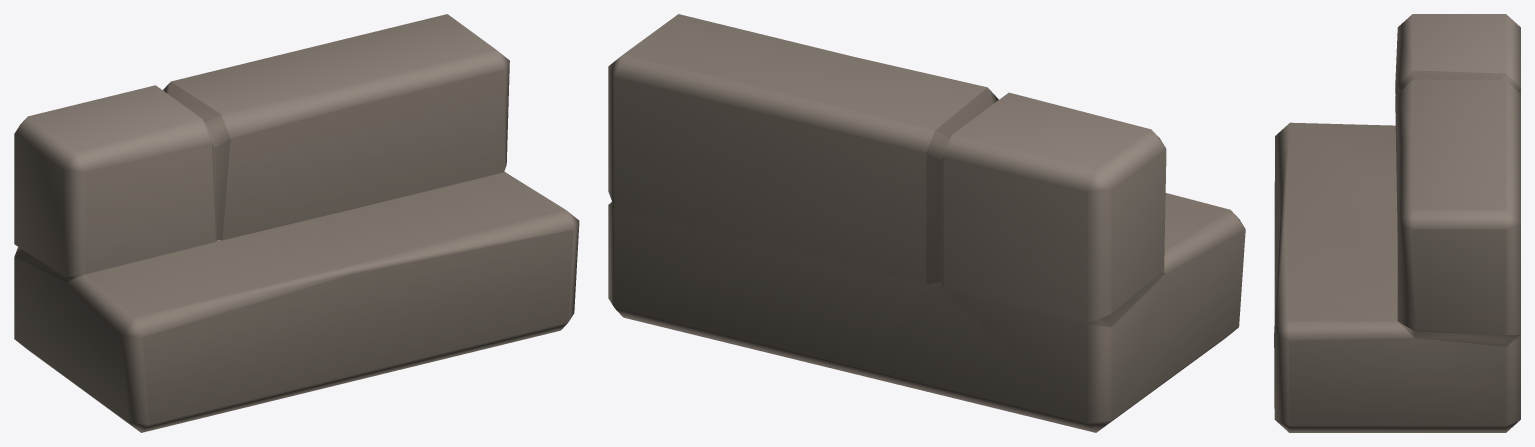
File: elf_stairs_half_2_shade_4.fbx
3 renders of one model, left to right at view 1: azimuth 30°, elevation 25°; view 2: azimuth 150°, elevation 25°; view 3: azimuth 270°, elevation 25°, orthographic. The views are drawn at different scales.
Parts seen in each view (by area): view 1: elf_stairs_half_2_shade_4; view 2: elf_stairs_half_2_shade_4; view 3: elf_stairs_half_2_shade_4.
Part boxes in pixels (x1,y1,x2,y2): elf_stairs_half_2_shade_4: (14, 14, 579, 432); elf_stairs_half_2_shade_4: (608, 14, 1245, 432); elf_stairs_half_2_shade_4: (1274, 14, 1520, 432).
Size of the model in its own units: 102 by 50.51 by 50.1.
